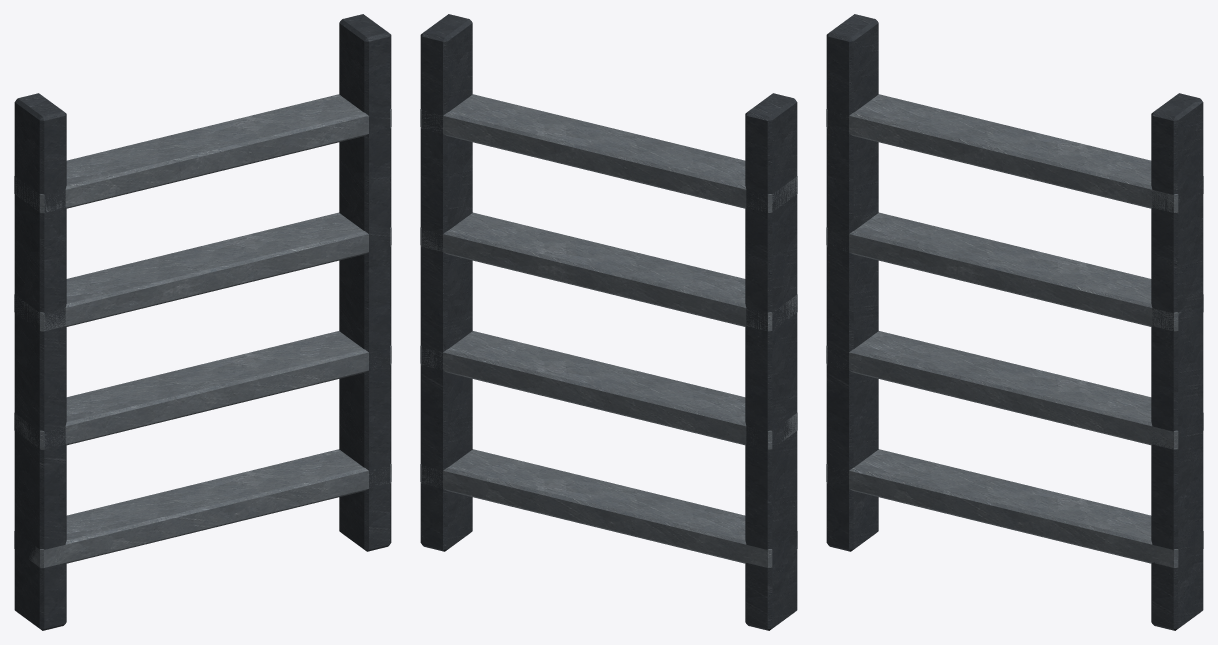
The model's file is train_ladder_front.gltf.
3 renders of one model, left to right at view 1: azimuth 30°, elevation 25°; view 2: azimuth 150°, elevation 25°; view 3: azimuth 330°, elevation 25°, orthographic.
Size of the model in its own units: 0.715 by 1 by 0.1.
Materials: 2 (2 with a texture image).
